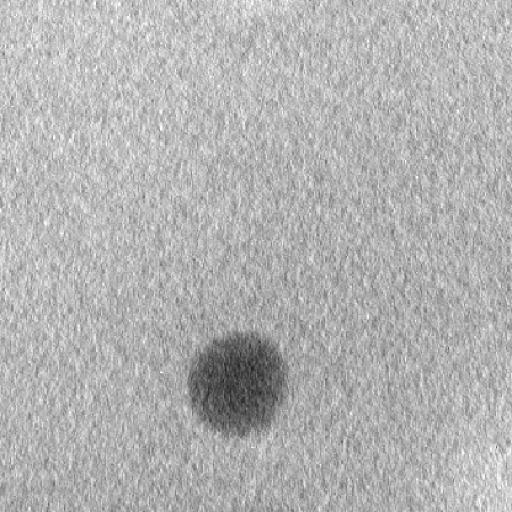Nanoparticles: (183, 329, 291, 439)
